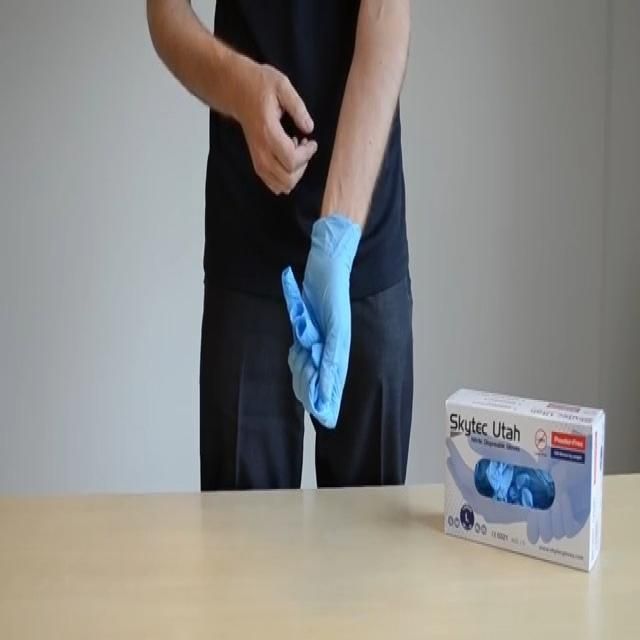Gloves: (280, 215, 375, 435)
